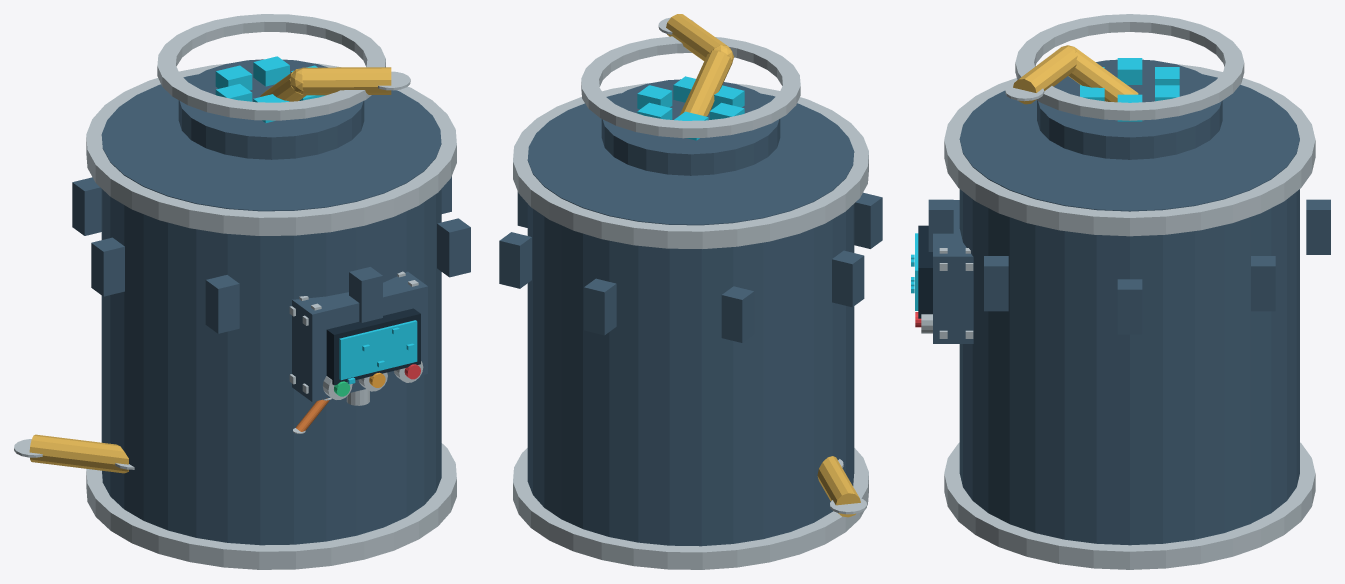
File: 34_L78_VirtualPorogenCartridge.fbx
3 renders of one model, left to right at view 1: azimuth 30°, elevation 25°; view 2: azimuth 150°, elevation 25°; view 3: azimuth 270°, elevation 25°, orthographic. The views are drawn at different scales.
Parts seen in each view (by area): view 1: VirtualPorogenCartridge, VirtualPorogenCartridge_Part_0049, VirtualPorogenCartridge_Part_0055, VirtualPorogenCartridge_Part_0054; view 2: VirtualPorogenCartridge, VirtualPorogenCartridge_Part_0049, VirtualPorogenCartridge_Part_0050, VirtualPorogenCartridge_Part_0052; view 3: VirtualPorogenCartridge, VirtualPorogenCartridge_Part_0049, VirtualPorogenCartridge_Part_0053.
Boxes of the visible parts, left/top/right/bottom form: VirtualPorogenCartridge: left=14, top=14, right=470, bottom=569; VirtualPorogenCartridge_Part_0049: left=178, top=59, right=364, bottom=159; VirtualPorogenCartridge_Part_0055: left=253, top=56, right=289, bottom=86; VirtualPorogenCartridge_Part_0054: left=215, top=65, right=252, bottom=90; VirtualPorogenCartridge: left=499, top=14, right=882, bottom=569; VirtualPorogenCartridge_Part_0049: left=601, top=79, right=780, bottom=175; VirtualPorogenCartridge_Part_0050: left=637, top=85, right=672, bottom=109; VirtualPorogenCartridge_Part_0052: left=711, top=85, right=744, bottom=109; VirtualPorogenCartridge: left=911, top=14, right=1330, bottom=569; VirtualPorogenCartridge_Part_0049: left=1037, top=59, right=1222, bottom=159; VirtualPorogenCartridge_Part_0053: left=1117, top=58, right=1142, bottom=84.
Size of the model in its own units: 146 by 159 by 136.
